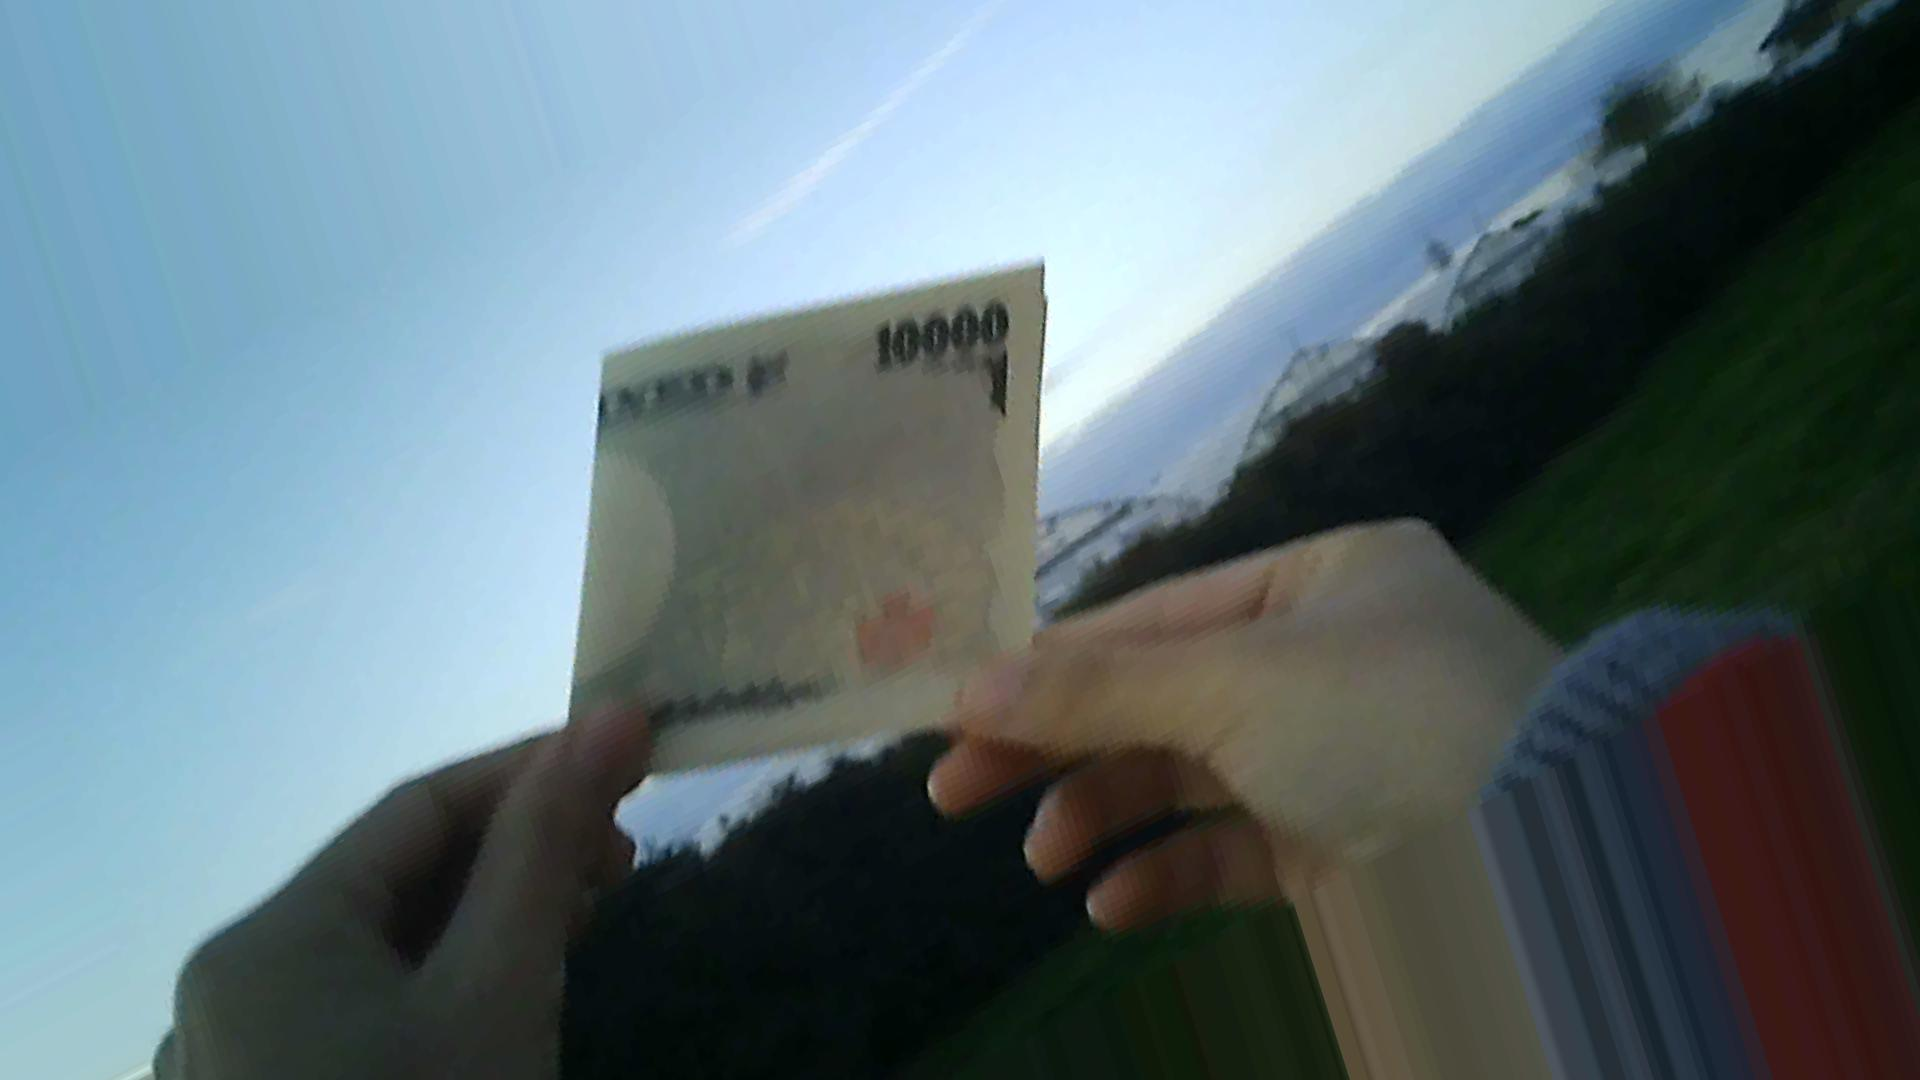10,000 Yen: (542, 258, 1096, 765)
